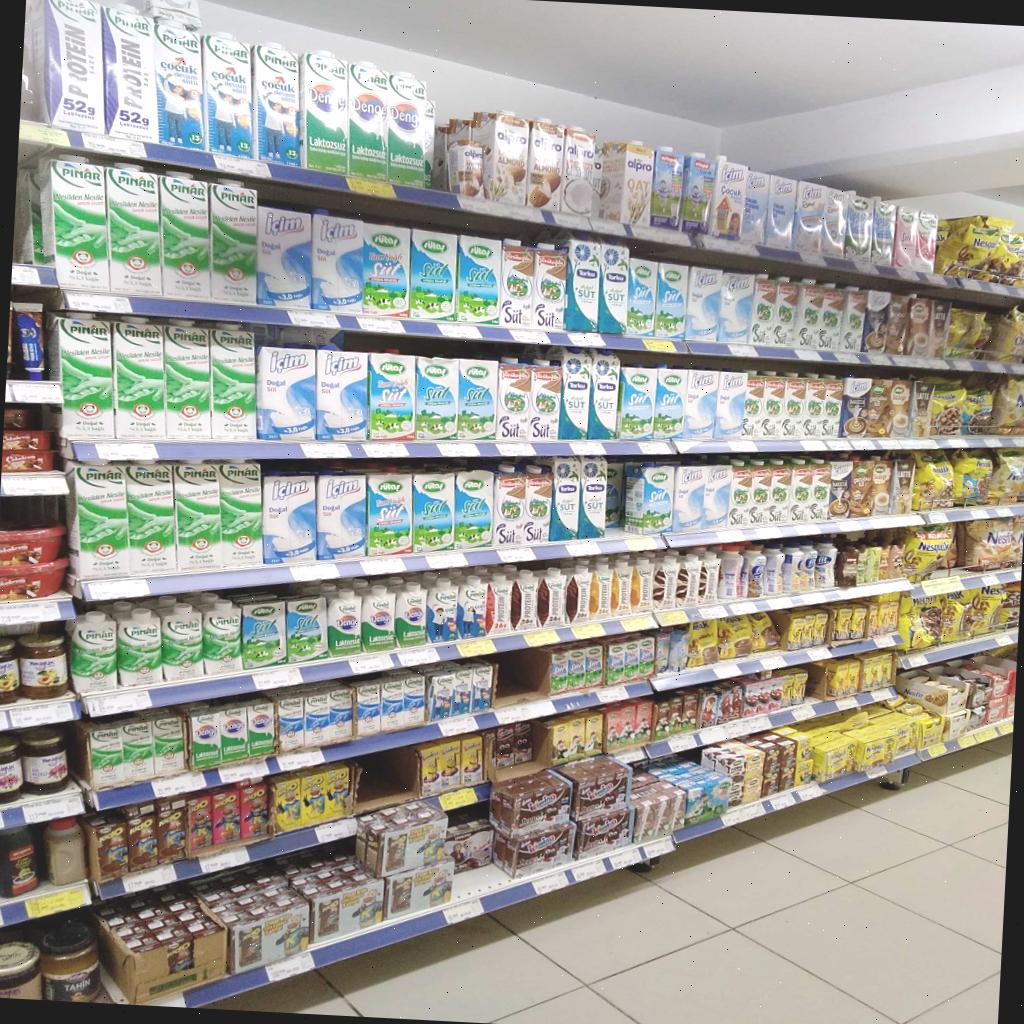price_tag: (83, 691, 152, 716), (65, 291, 132, 315), (265, 952, 314, 983), (122, 865, 176, 893), (83, 135, 146, 158), (211, 154, 271, 178), (150, 772, 205, 798), (494, 701, 554, 724), (197, 847, 250, 873), (87, 578, 149, 600), (252, 667, 302, 690), (219, 761, 268, 784), (96, 442, 158, 460), (721, 802, 766, 826), (287, 309, 340, 329), (358, 555, 406, 577), (346, 177, 396, 198), (443, 899, 484, 924), (640, 834, 676, 862), (276, 750, 323, 771), (315, 819, 356, 843), (288, 563, 338, 582), (348, 653, 392, 674), (439, 788, 479, 810), (438, 714, 478, 736), (300, 442, 351, 459), (396, 646, 439, 666), (532, 872, 569, 895), (357, 316, 404, 334), (360, 441, 409, 458), (571, 859, 606, 882), (643, 836, 675, 860), (456, 639, 496, 658), (608, 847, 642, 869), (593, 684, 628, 704), (426, 552, 466, 569), (552, 213, 591, 230), (737, 714, 770, 734), (509, 329, 550, 345), (502, 206, 543, 222), (524, 629, 560, 647), (436, 442, 479, 457), (438, 324, 481, 339), (494, 705, 527, 724), (571, 622, 605, 640), (664, 733, 696, 752), (495, 442, 535, 457), (620, 615, 654, 632), (613, 747, 647, 764), (565, 540, 599, 557), (498, 548, 535, 563), (568, 333, 605, 348), (700, 726, 729, 745), (796, 783, 826, 801), (625, 537, 659, 552), (643, 339, 679, 353), (790, 703, 816, 722), (707, 530, 745, 543), (710, 663, 742, 678), (657, 611, 689, 626), (569, 441, 603, 455), (769, 792, 795, 810), (698, 605, 729, 620), (639, 441, 671, 455), (853, 260, 880, 276), (758, 655, 786, 670), (727, 344, 759, 357), (729, 602, 757, 615), (756, 526, 782, 540), (727, 440, 757, 452), (795, 524, 825, 536), (767, 597, 794, 610), (807, 647, 832, 661), (836, 696, 859, 711), (866, 764, 888, 779), (873, 634, 896, 648), (870, 689, 894, 702), (796, 350, 821, 361)
product: (153, 41, 284, 134), (29, 0, 106, 134), (40, 158, 110, 293), (47, 313, 115, 440), (215, 890, 309, 973), (65, 462, 131, 580), (102, 5, 158, 142), (105, 165, 163, 295), (290, 867, 384, 943), (356, 802, 448, 876), (202, 33, 256, 159), (152, 22, 205, 150), (112, 318, 166, 441), (159, 175, 211, 299), (252, 43, 302, 166), (125, 462, 178, 575), (300, 52, 348, 175), (210, 180, 257, 304), (257, 205, 311, 309), (257, 347, 316, 440), (164, 324, 211, 440), (311, 210, 363, 314), (173, 460, 222, 570), (474, 111, 530, 207), (490, 771, 571, 837), (215, 461, 264, 567), (210, 329, 256, 440), (316, 346, 368, 441), (263, 474, 316, 564), (348, 62, 388, 181), (493, 821, 576, 877), (599, 142, 654, 226), (560, 756, 632, 820), (363, 223, 410, 318), (388, 73, 426, 188), (316, 474, 366, 561), (384, 859, 454, 921), (410, 229, 456, 321), (368, 353, 415, 441), (69, 611, 117, 694), (457, 235, 501, 325), (668, 767, 730, 826), (368, 473, 412, 556), (561, 127, 601, 216), (624, 462, 673, 534), (526, 120, 564, 210), (417, 357, 457, 441), (118, 609, 161, 686), (565, 238, 600, 332), (240, 600, 287, 670), (413, 473, 454, 553), (453, 469, 493, 550), (573, 805, 634, 858), (709, 157, 748, 239), (458, 358, 497, 440), (161, 603, 202, 681), (499, 242, 535, 329), (203, 600, 243, 675), (559, 349, 591, 440), (446, 120, 483, 198), (286, 594, 327, 663), (550, 456, 583, 541), (680, 153, 715, 233), (651, 147, 685, 229), (497, 359, 531, 441), (635, 784, 683, 842), (597, 244, 628, 333), (685, 267, 722, 341), (619, 366, 656, 440), (715, 272, 754, 342), (588, 351, 619, 439), (534, 248, 566, 330), (444, 821, 494, 873), (654, 263, 688, 339), (843, 724, 897, 771), (653, 368, 688, 439), (530, 362, 561, 442), (493, 472, 526, 547), (626, 255, 656, 336), (578, 457, 607, 539), (765, 175, 797, 248), (685, 369, 719, 437), (673, 464, 707, 532), (794, 181, 826, 253), (328, 589, 361, 658), (185, 707, 221, 770), (714, 371, 747, 438), (362, 585, 395, 652), (523, 468, 552, 543), (741, 170, 770, 244), (394, 583, 427, 648), (426, 578, 458, 643), (121, 718, 153, 782), (702, 463, 732, 529), (844, 192, 873, 260), (813, 733, 854, 781), (840, 377, 872, 438), (152, 715, 184, 776), (90, 728, 123, 786), (156, 798, 185, 864), (750, 277, 778, 345), (796, 281, 824, 348), (270, 772, 300, 833), (537, 568, 568, 627), (95, 819, 127, 876), (817, 284, 844, 350), (863, 290, 891, 353), (458, 575, 486, 638), (773, 279, 799, 346), (239, 782, 268, 841), (892, 206, 919, 269), (820, 189, 845, 257), (904, 297, 932, 357), (486, 572, 512, 636), (128, 814, 157, 871), (728, 461, 753, 526), (220, 706, 248, 764), (276, 696, 305, 752), (762, 376, 788, 438), (787, 460, 813, 522), (749, 461, 774, 525), (883, 295, 910, 354), (866, 378, 893, 437), (212, 786, 239, 845), (511, 570, 537, 631), (871, 201, 896, 264), (841, 288, 866, 351), (879, 713, 917, 754), (717, 616, 752, 660), (186, 795, 212, 854), (654, 551, 680, 610), (248, 701, 275, 757), (354, 681, 381, 737), (566, 563, 591, 623), (889, 455, 914, 514), (327, 687, 353, 743), (849, 457, 873, 517), (302, 766, 326, 826), (687, 621, 718, 667), (323, 764, 349, 818), (783, 377, 806, 438), (907, 380, 932, 436), (425, 671, 453, 721), (742, 375, 764, 438), (304, 692, 329, 747), (718, 546, 743, 601), (630, 555, 654, 612), (807, 462, 830, 521), (470, 660, 496, 712), (916, 211, 938, 272), (802, 377, 824, 437), (747, 612, 779, 653), (829, 460, 852, 517), (676, 554, 701, 606), (870, 457, 892, 516), (928, 302, 951, 358), (809, 544, 838, 588), (610, 559, 632, 616), (418, 744, 442, 796), (437, 740, 461, 792), (589, 560, 610, 619), (459, 736, 483, 786), (402, 674, 425, 726), (890, 381, 911, 436), (450, 667, 473, 716), (381, 679, 403, 730), (584, 713, 610, 756), (772, 463, 791, 521), (698, 551, 719, 603), (630, 699, 654, 744), (743, 548, 765, 597), (856, 547, 885, 584), (599, 707, 623, 750), (824, 380, 842, 436), (566, 715, 588, 760), (548, 718, 570, 762), (763, 549, 783, 596), (792, 547, 813, 591), (667, 628, 688, 672), (665, 695, 686, 739), (492, 726, 514, 768), (605, 640, 625, 684), (583, 644, 603, 688), (618, 704, 638, 748), (805, 609, 828, 646), (838, 546, 859, 586), (680, 692, 700, 732), (513, 723, 532, 764), (567, 648, 585, 691), (830, 606, 851, 642), (550, 651, 568, 693), (637, 636, 655, 677), (801, 546, 818, 589), (846, 656, 864, 696), (828, 660, 848, 696), (740, 680, 760, 716), (722, 756, 747, 784), (622, 640, 639, 681), (700, 690, 718, 728), (744, 750, 766, 781), (654, 698, 670, 739), (654, 632, 669, 673), (716, 688, 732, 726), (780, 672, 797, 707), (887, 542, 903, 579), (770, 675, 785, 714), (850, 605, 867, 639), (873, 602, 891, 634), (787, 618, 804, 651), (884, 598, 900, 632), (792, 671, 808, 705), (758, 678, 772, 716), (724, 780, 744, 806), (801, 614, 816, 647), (777, 742, 796, 768), (877, 545, 891, 580), (870, 654, 884, 689), (742, 779, 762, 803), (865, 602, 879, 636), (880, 654, 894, 688), (761, 747, 779, 773), (764, 769, 782, 795), (796, 760, 814, 786), (781, 764, 796, 792), (731, 685, 743, 718), (797, 738, 815, 760), (861, 658, 873, 690)
